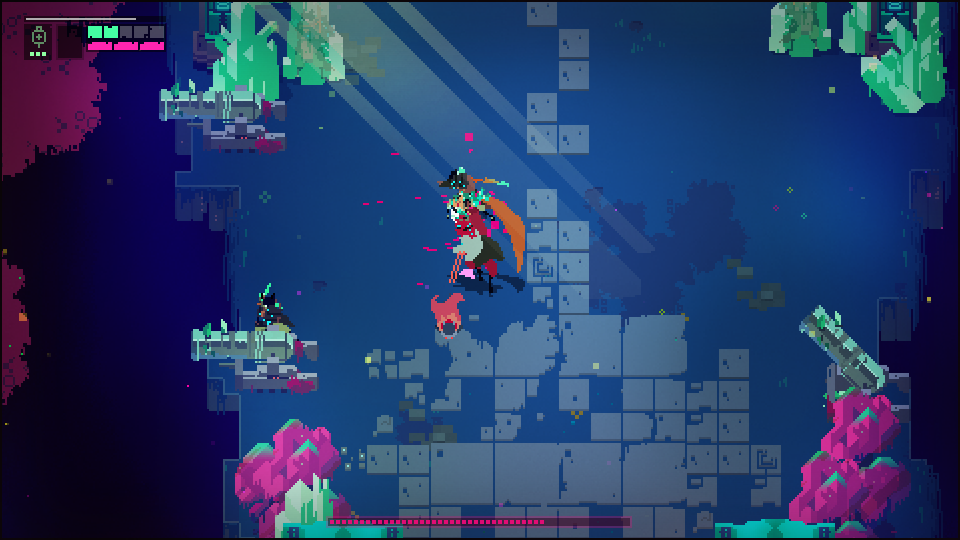hanged_man: (431, 196, 518, 292)
player: (426, 293, 468, 340)
